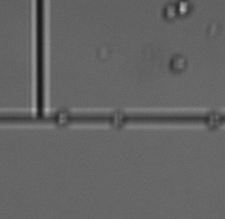Dead Cell: (55, 107, 73, 129), (109, 110, 127, 128), (170, 53, 186, 72), (207, 110, 222, 128), (162, 2, 177, 19)
Living Cell: (176, 1, 191, 17)
